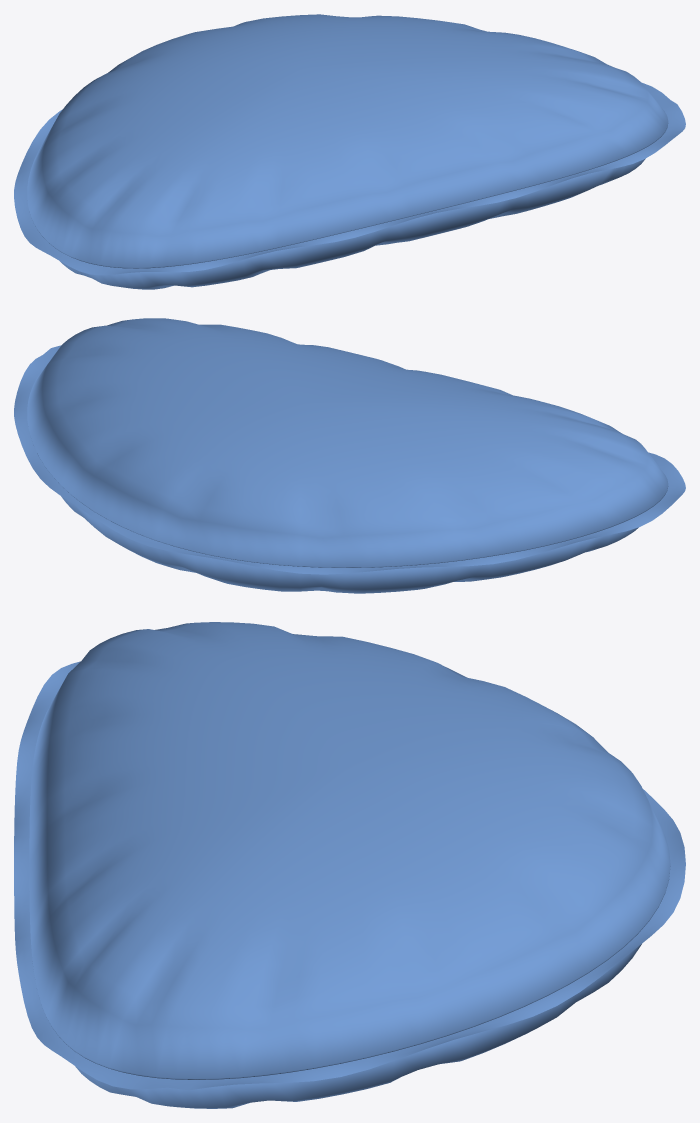
The model's file is bean.glb.
3 views of the same model, one above another, from view 1: azimuth 30°, elevation 25°; view 2: azimuth 150°, elevation 25°; view 3: azimuth 270°, elevation 25° (orthographic). The views are drawn at different scales.
Parts seen in each view (by area): view 1: Bean, Bean weld; view 2: Bean, Bean weld; view 3: Bean, Bean weld.
Boxes of the visible parts, left/top/right/bottom form: Bean: left=27, top=14, right=668, bottom=289; Bean weld: left=14, top=82, right=685, bottom=275; Bean: left=27, top=318, right=668, bottom=593; Bean weld: left=14, top=345, right=685, bottom=574; Bean: left=29, top=622, right=670, bottom=1108; Bean weld: left=14, top=661, right=685, bottom=1090.
Bounding box in the file's own units: 1.59 × 0.336 × 1.01.
